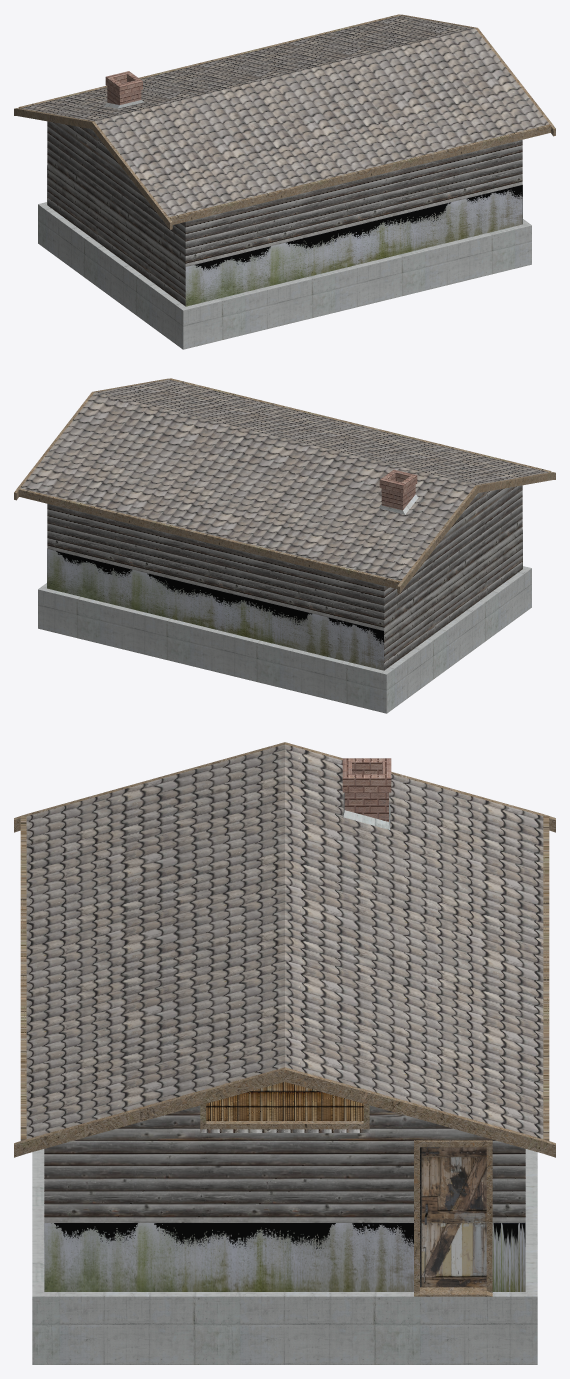
Rendered from Shed00.FBX.
3 renders of one model, top to bottom at view 1: azimuth 30°, elevation 25°; view 2: azimuth 150°, elevation 25°; view 3: azimuth 270°, elevation 25°, orthographic. The views are drawn at different scales.
Visible parts, largest first — view 1: pCube1, Plane002; view 2: pCube1, Plane001; view 3: pCube1, Plane003, Plane004.
Part boxes in pixels (x1,y1,x2,y2): pCube1: [14, 14, 555, 349]; Plane002: [185, 185, 522, 306]; pCube1: [14, 378, 555, 713]; Plane001: [47, 549, 383, 670]; pCube1: [14, 742, 555, 1364]; Plane003: [44, 1223, 413, 1291]; Plane004: [492, 1223, 525, 1291].
Bounding box in the file's own units: 12.88 × 6.11 × 9.01.
Materials: 8 (8 with a texture image).
